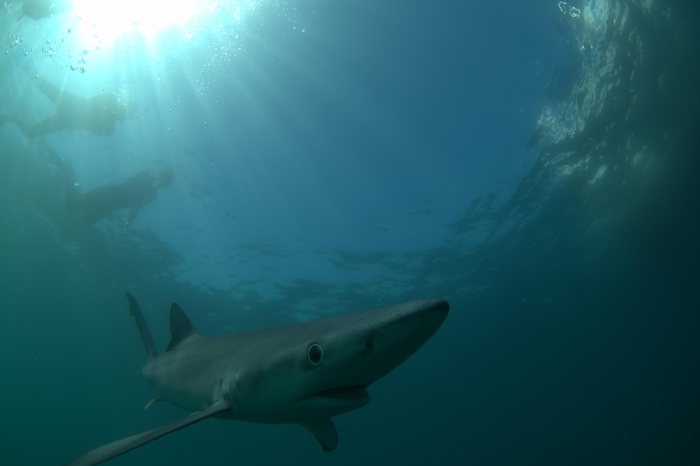Azul: (59, 269, 468, 466)
